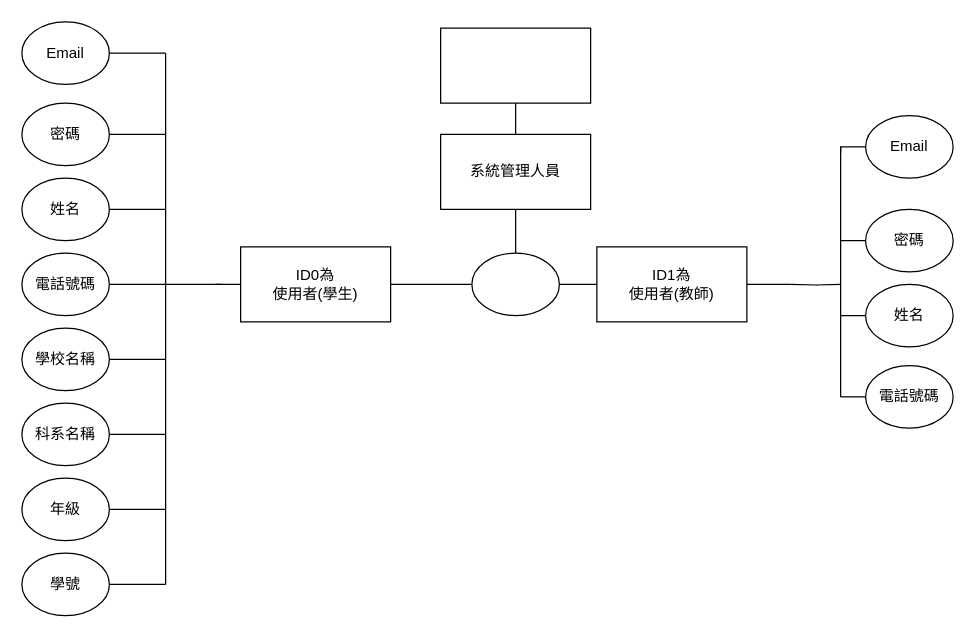
This 975x638 diagram has some shape labels left out. Here are the shapes that lost their labels. From the top down, the centre of each, then its label:
At (515,65): "學校管理".
At (515,284): "身分證".
